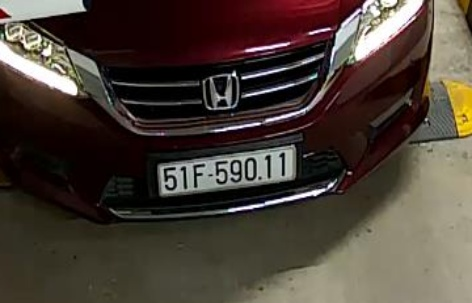plate: (154, 142, 298, 196)
